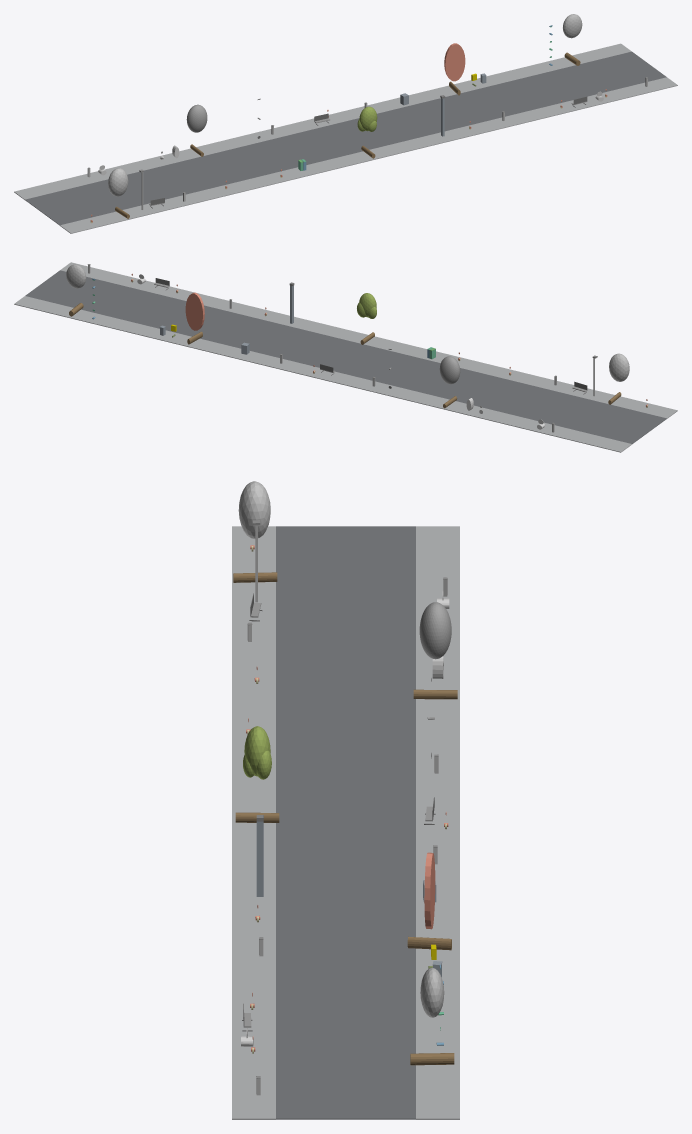
3 renders of one model, top to bottom at view 1: azimuth 30°, elevation 25°; view 2: azimuth 150°, elevation 25°; view 3: azimuth 270°, elevation 25°, orthographic. The views are drawn at different scales.
Parts seen in each view (by area): view 1: road_slab, sidewalk_left, sidewalk_right, inst_0015, inst_0012, inst_0013, inst_0014, inst_0016; view 2: road_slab, sidewalk_right, sidewalk_left, inst_0015, inst_0012, inst_0013, inst_0014, inst_0016; view 3: road_slab, sidewalk_left, sidewalk_right, inst_0013, inst_0012, inst_0014, inst_0016, inst_0015.
Boxes of the visible parts, x1,y1,x2,y2 form: road_slab: [25, 51, 666, 225]; sidewalk_left: [60, 77, 677, 233]; sidewalk_right: [14, 43, 631, 199]; inst_0015: [444, 43, 465, 95]; inst_0012: [108, 168, 129, 218]; inst_0013: [186, 104, 207, 156]; inst_0014: [357, 106, 377, 158]; inst_0016: [563, 14, 582, 65]; road_slab: [25, 270, 666, 444]; sidewalk_right: [14, 296, 631, 452]; sidewalk_left: [60, 262, 677, 418]; inst_0015: [185, 292, 204, 344]; inst_0012: [608, 353, 629, 404]; inst_0013: [439, 356, 460, 408]; inst_0014: [357, 293, 376, 344]; inst_0016: [66, 264, 86, 316]; road_slab: [276, 526, 415, 1119]; sidewalk_left: [232, 526, 275, 1119]; sidewalk_right: [416, 526, 459, 1119]; inst_0013: [413, 602, 457, 699]; inst_0012: [233, 481, 277, 582]; inst_0014: [235, 726, 279, 822]; inst_0016: [410, 967, 454, 1065]; inst_0015: [407, 852, 451, 950].
Size of the model in its own units: 80 by 6.08 by 13.
